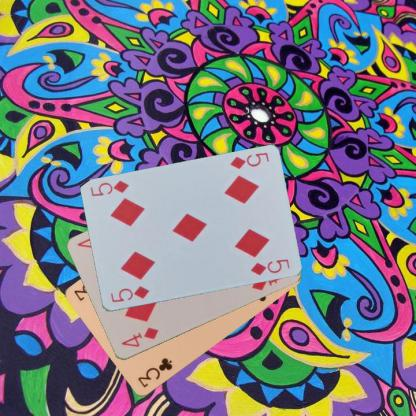3c: (135, 355, 174, 389)
4d: (119, 325, 159, 349)
5d: (227, 150, 270, 171), (108, 283, 150, 304)
